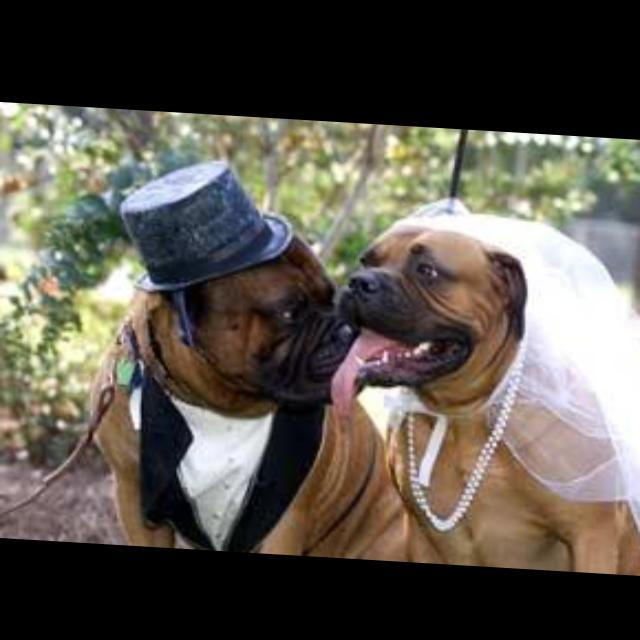bullmastiff: (337, 198, 640, 569), (90, 222, 418, 559)
